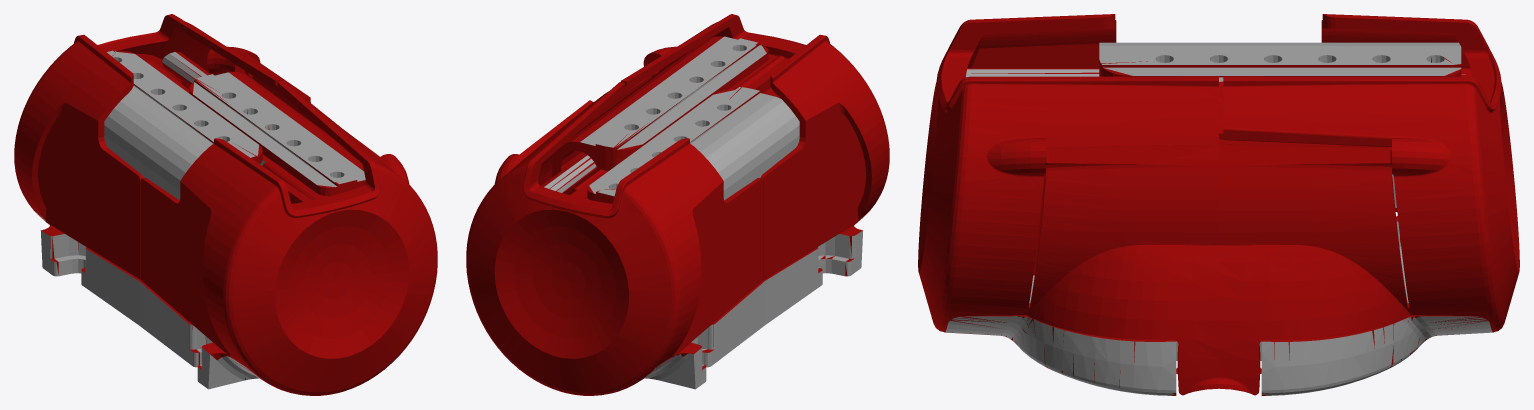
Rendered from electric_gripper_base.obj.
The picture shows the model from 3 angles, left to right: view 1: azimuth 30°, elevation 25°; view 2: azimuth 150°, elevation 25°; view 3: azimuth 270°, elevation 25°; orthographic projection. The views are drawn at different scales.
Parts seen in each view (by area): view 1: _0031555_00031555.001; view 2: _0031555_00031555.001; view 3: _0031555_00031555.001.
Boxes of the visible parts, x1,y1,x2,y2 form: _0031555_00031555.001: [14, 14, 437, 395]; _0031555_00031555.001: [466, 14, 889, 395]; _0031555_00031555.001: [918, 14, 1519, 395].
Size of the model in its own units: 0.0659 by 0.0534 by 0.1055.
